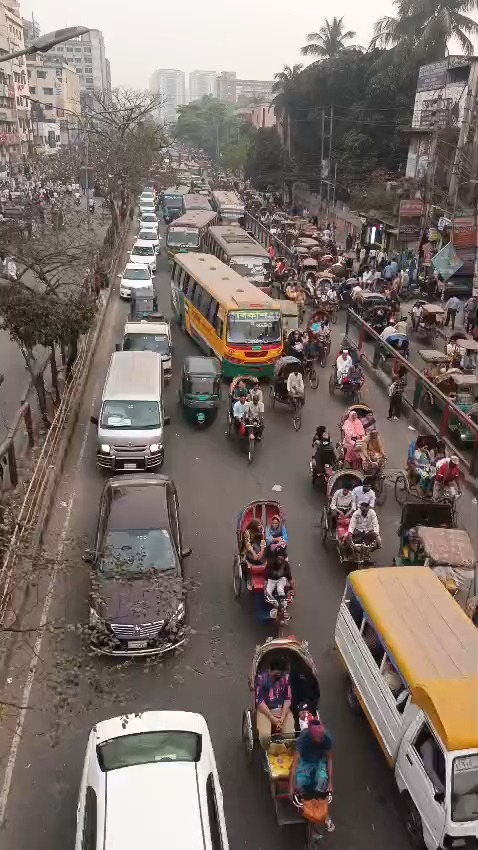Bus: (172, 248, 281, 364)
Leguna: (335, 555, 478, 849)
auto-ricksaw: (227, 494, 299, 633), (225, 370, 271, 467)
cng: (182, 348, 222, 429)
private car: (72, 705, 228, 845), (92, 469, 194, 667), (88, 347, 174, 471), (115, 187, 167, 358)
